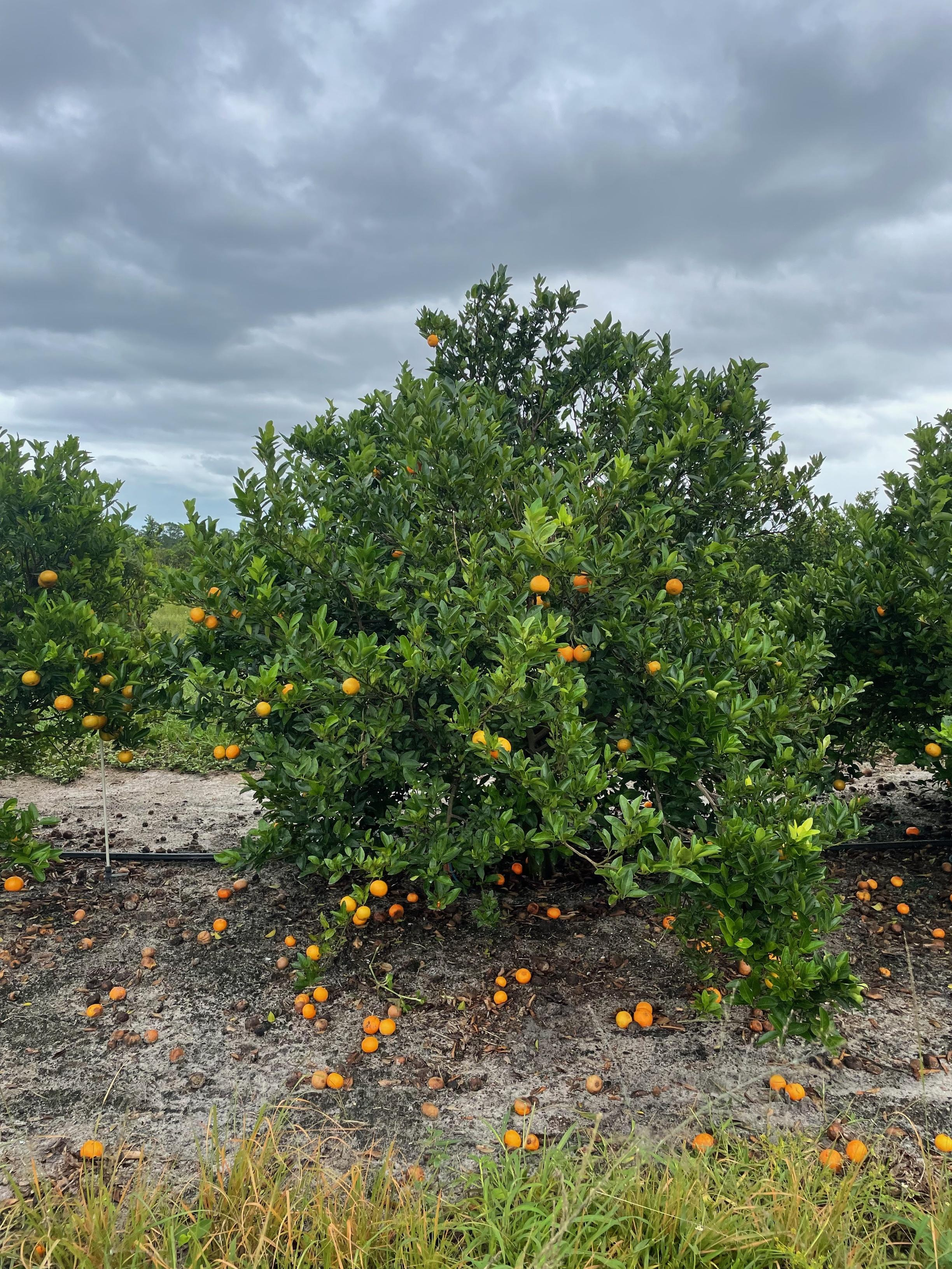fruit_on_ground: (486, 735, 513, 760), (571, 570, 597, 595), (771, 839, 795, 863), (470, 728, 493, 751), (762, 969, 786, 991), (528, 573, 552, 595), (82, 645, 107, 665), (368, 877, 390, 899), (278, 680, 300, 702), (340, 674, 362, 696), (555, 642, 576, 665), (20, 668, 43, 689), (572, 643, 593, 665), (52, 692, 75, 712), (528, 594, 552, 613), (664, 576, 685, 597), (643, 657, 665, 677), (614, 736, 635, 755), (304, 942, 323, 962), (97, 724, 117, 743), (339, 894, 358, 914), (254, 698, 273, 718), (80, 712, 99, 732), (873, 600, 892, 619), (404, 457, 423, 476), (223, 743, 242, 762), (923, 741, 943, 759), (97, 671, 117, 689), (188, 606, 208, 624), (38, 568, 59, 585), (389, 544, 407, 562), (205, 584, 224, 601), (116, 748, 135, 765), (91, 711, 108, 730), (227, 605, 245, 622), (202, 614, 220, 631), (355, 904, 372, 921), (106, 724, 123, 741), (120, 683, 138, 699), (37, 573, 55, 589), (352, 910, 368, 927), (831, 777, 848, 793), (425, 333, 441, 348), (212, 745, 227, 761), (119, 700, 135, 714)
fruit_on_tree: (690, 1130, 718, 1156), (817, 1148, 844, 1174), (844, 1138, 868, 1164), (79, 1137, 105, 1161), (700, 986, 724, 1006), (502, 1127, 523, 1149), (405, 1164, 427, 1184), (825, 1121, 845, 1143), (632, 1008, 654, 1028), (785, 1080, 807, 1100), (3, 874, 26, 893), (933, 1131, 952, 1154), (420, 1100, 441, 1120), (512, 1096, 533, 1116), (361, 1014, 382, 1034), (521, 1131, 541, 1152), (613, 1009, 634, 1029), (377, 1016, 397, 1036), (584, 1073, 604, 1093), (766, 1072, 787, 1091), (513, 966, 533, 985), (326, 1070, 345, 1090), (84, 1001, 105, 1019), (922, 1050, 940, 1070), (758, 1017, 777, 1035), (735, 957, 753, 976), (310, 1070, 328, 1089), (634, 999, 654, 1016), (293, 991, 311, 1009), (661, 914, 679, 932), (362, 1035, 380, 1053), (312, 984, 330, 1002), (108, 984, 127, 1001), (386, 1002, 404, 1019), (747, 1005, 766, 1021), (143, 1026, 160, 1043), (293, 1000, 311, 1016), (387, 902, 405, 918), (195, 929, 214, 944), (748, 1017, 765, 1033), (491, 989, 508, 1005), (545, 904, 562, 920), (301, 1003, 317, 1020), (426, 1075, 444, 1090), (140, 954, 157, 969), (930, 925, 947, 940), (231, 878, 249, 892), (509, 860, 524, 876), (212, 917, 228, 932), (525, 900, 541, 914), (492, 871, 507, 885), (283, 934, 298, 948), (493, 974, 508, 988), (275, 955, 290, 969), (856, 888, 872, 901), (889, 875, 905, 888), (72, 908, 86, 922), (405, 890, 419, 904), (877, 965, 892, 978), (141, 945, 156, 958), (905, 824, 920, 837), (217, 886, 232, 899), (896, 901, 910, 914), (856, 879, 871, 891), (940, 860, 952, 874), (865, 878, 879, 890), (861, 767, 874, 779), (642, 799, 654, 809)
